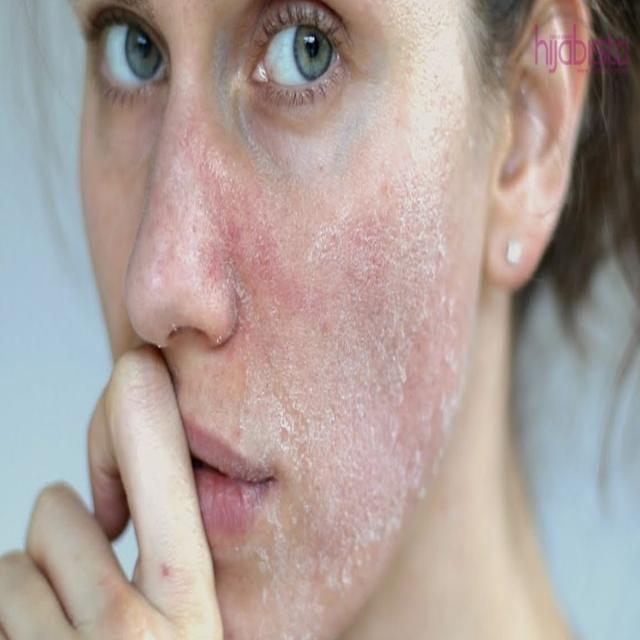Dry-Skin: (358, 149, 474, 491), (238, 508, 381, 614), (238, 328, 334, 456)
